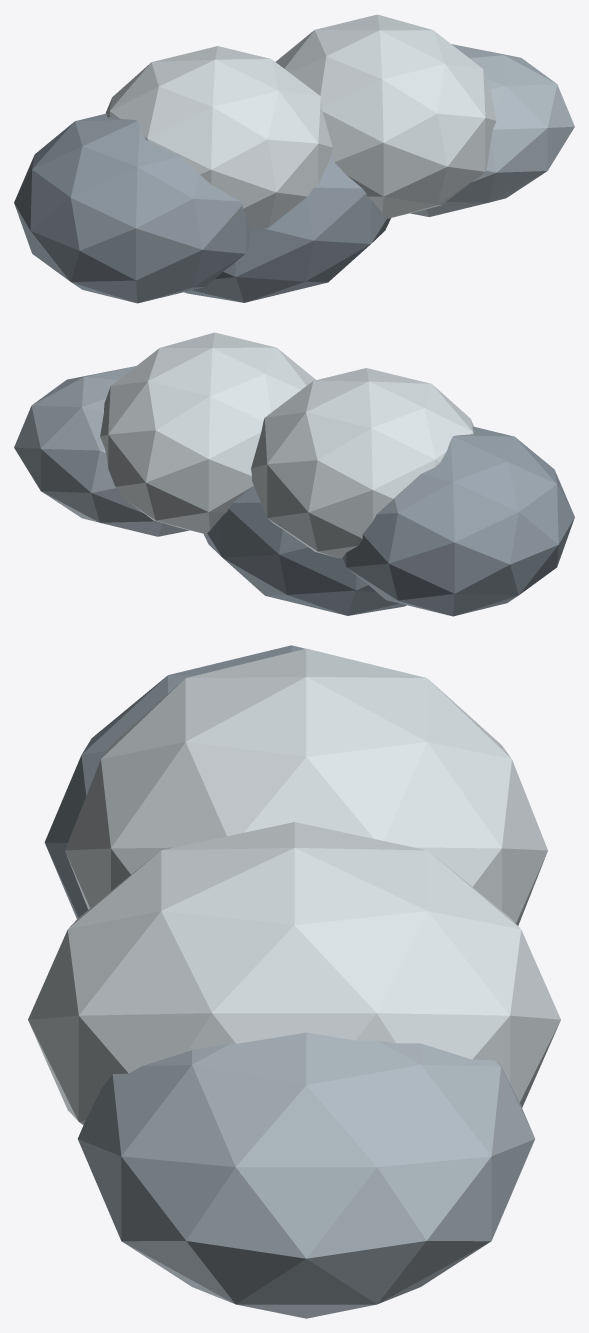
File: cloud-break-a.glb
3 views of the same model, one above another, from view 1: azimuth 30°, elevation 25°; view 2: azimuth 150°, elevation 25°; view 3: azimuth 270°, elevation 25° (orthographic). The views are drawn at different scales.
Parts seen in each view (by area): view 1: CloudMass_1, CloudMass_3, CloudMass_2, CloudMass_5, CloudMass_4; view 2: CloudMass_1, CloudMass_3, CloudMass_2, CloudMass_4, CloudMass_5; view 3: CloudMass_4, CloudMass_3, CloudMass_2, CloudMass_1.
Boxes of the visible parts, x1,y1,x2,y2 form: CloudMass_1: (14, 113, 249, 303); CloudMass_3: (276, 14, 496, 218); CloudMass_2: (105, 46, 332, 230); CloudMass_5: (184, 156, 390, 302); CloudMass_4: (410, 44, 574, 216); CloudMass_1: (342, 426, 574, 616); CloudMass_3: (100, 332, 315, 534); CloudMass_2: (251, 368, 473, 558); CloudMass_4: (14, 366, 189, 536); CloudMass_5: (204, 485, 406, 615); CloudMass_4: (78, 1032, 534, 1318); CloudMass_3: (28, 822, 560, 1125); CloudMass_2: (65, 648, 547, 925); CloudMass_1: (44, 645, 304, 918).
Size of the model in its own units: 4.08 by 1.72 by 1.78.
